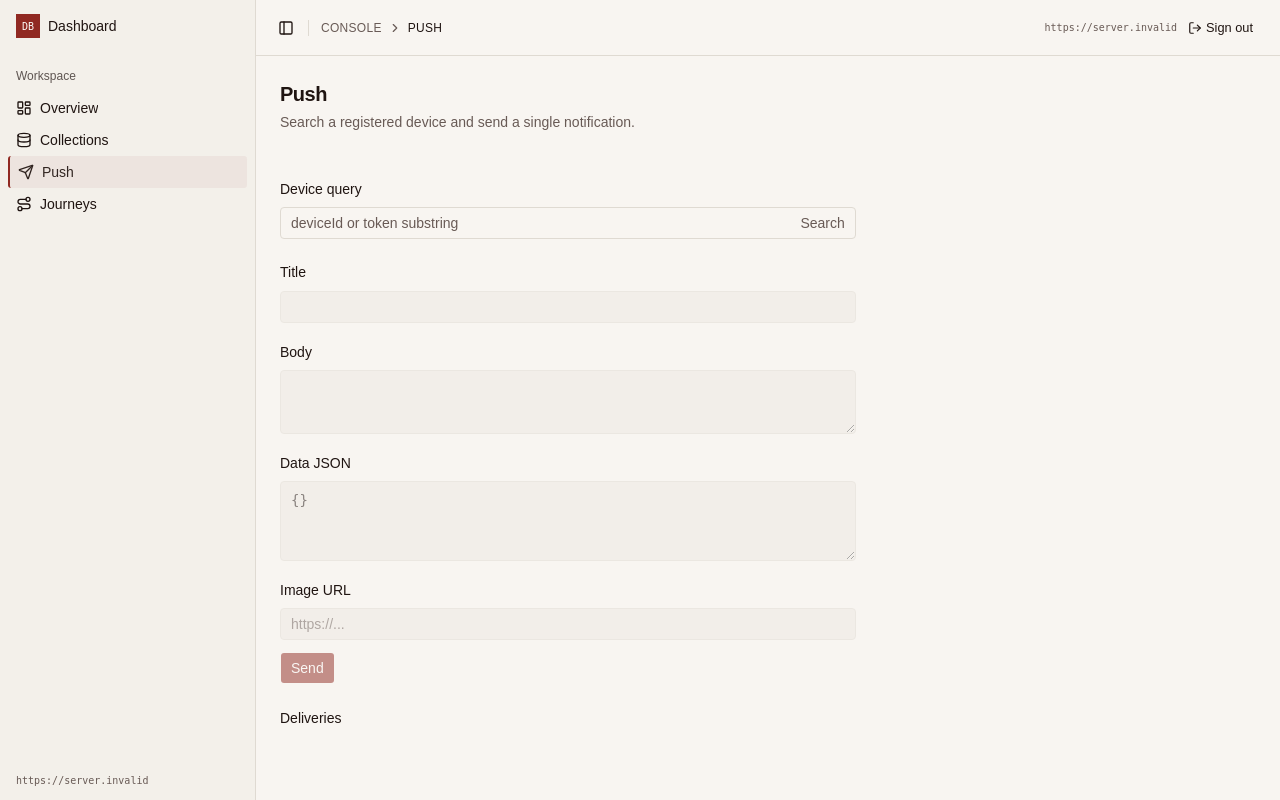
it: operator dashboard › toasts Push sent on a 200 send
The width and height of the screenshot is (1280, 800).
Type "dev_abc" into the field labelled "Device query".
click(537, 223); type("dev_abc")  # box [281,207,793,239]
Click the button "Search".
click(823, 223)  # box [793,211,852,235]
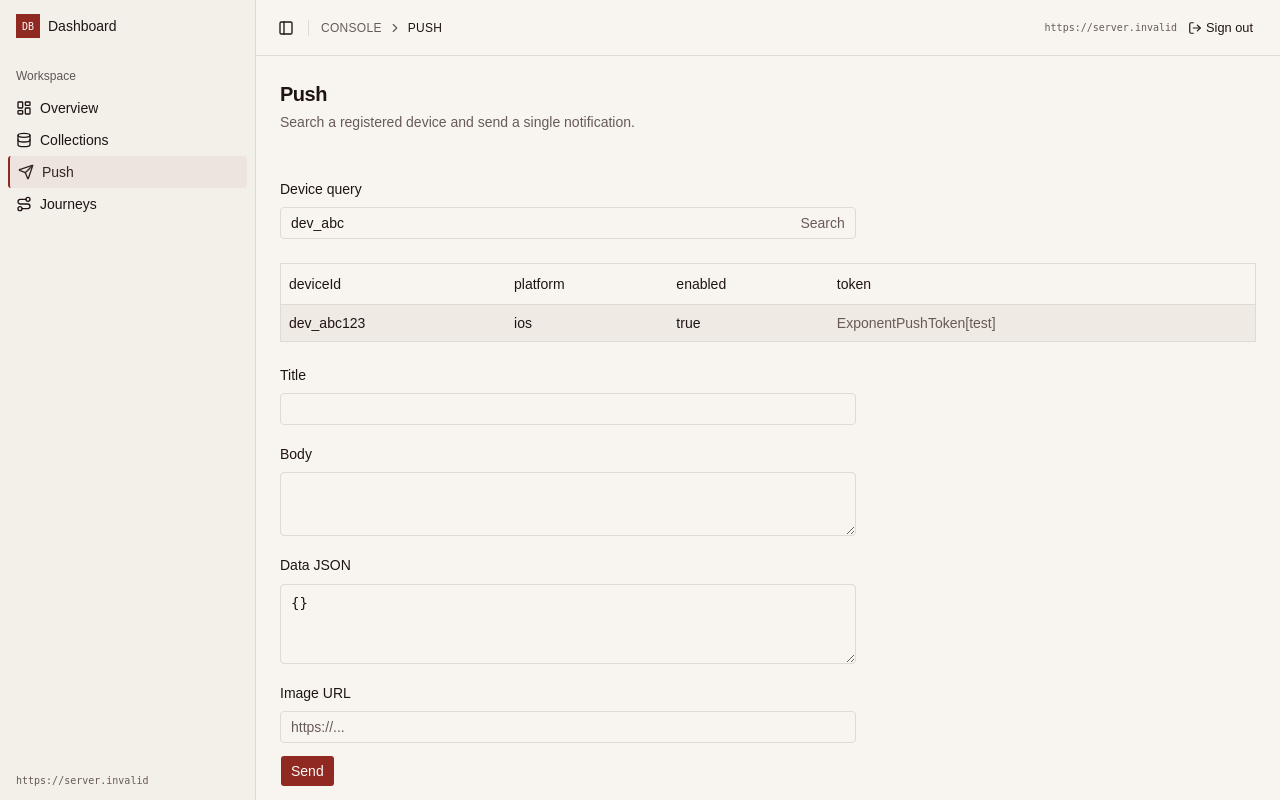
Click the text "dev_abc123".
click(327, 323)  # box [281,304,506,341]
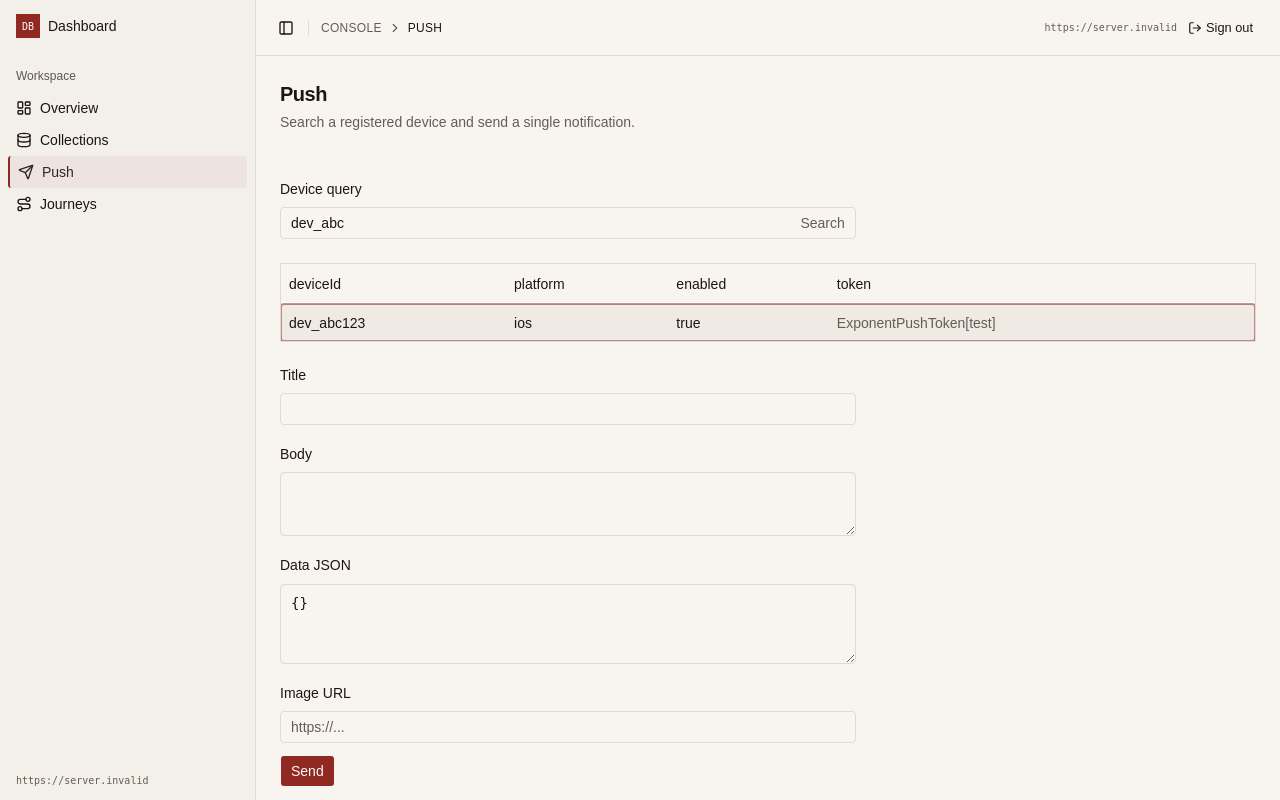
Type "Hello" into the field labelled "Title".
click(568, 409); type("Hello")  # box [280,393,856,425]
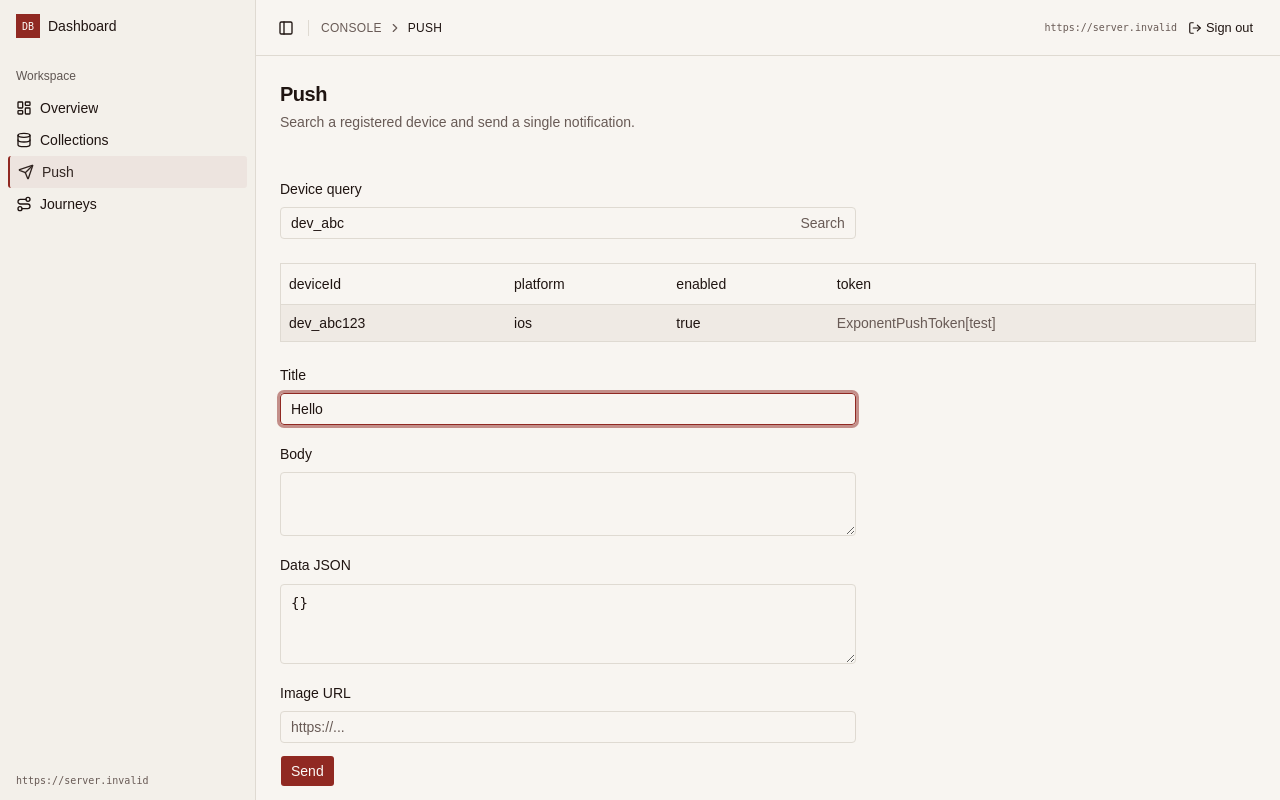
Type "World" into the text box labelled "Body".
click(568, 504); type("World")  # box [280,472,856,536]
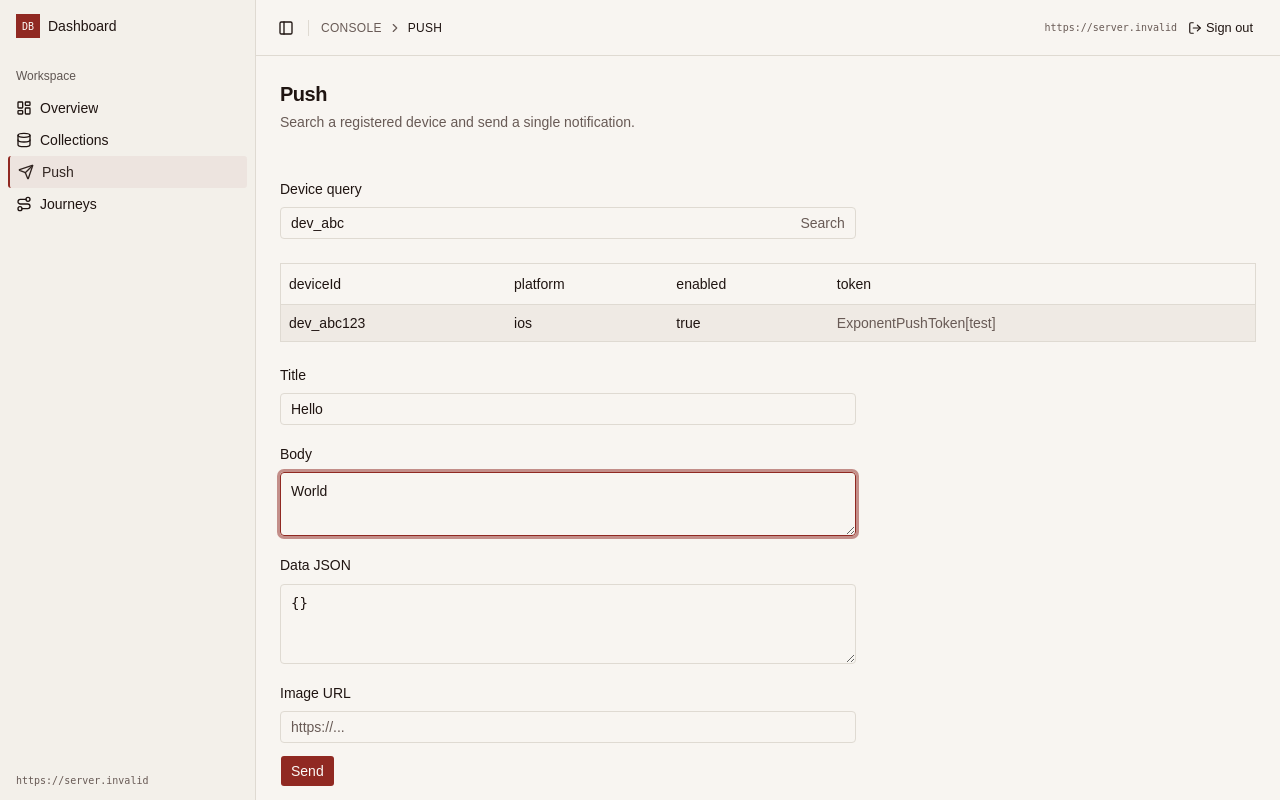
Type "https://cdn.example.com/single-push.jpg" into the field labelled "Image URL".
click(568, 727); type("https://cdn.example.com/single-push.jpg")  # box [280,711,856,743]
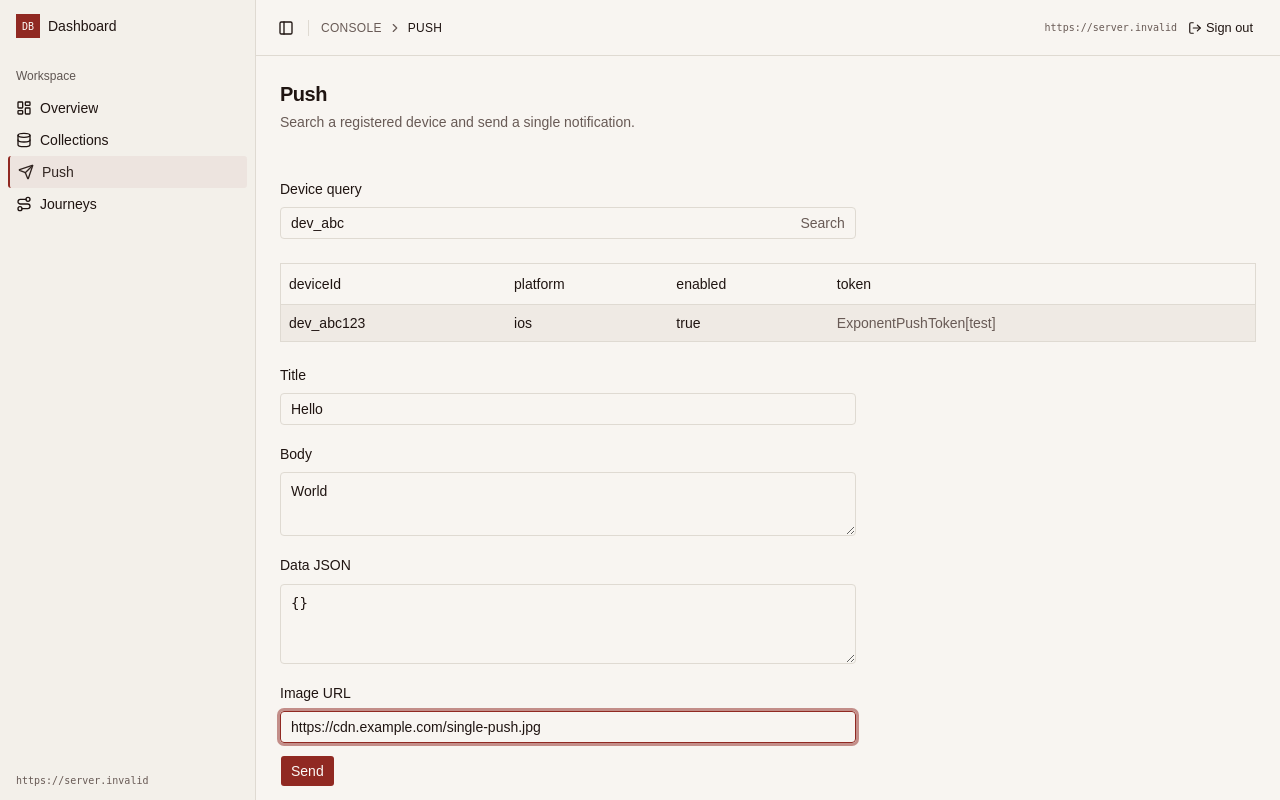
Click the button "Send".
click(307, 771)  # box [280,755,335,787]
(page scrolled)
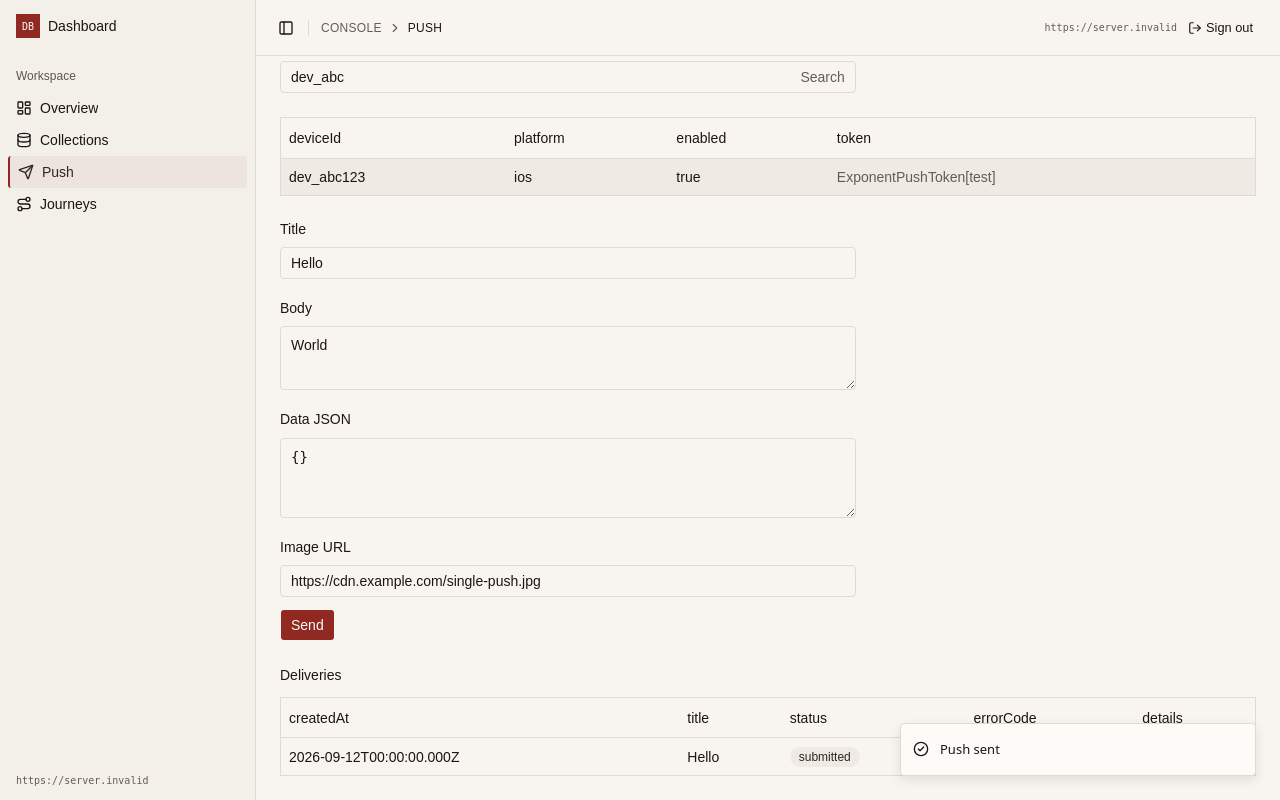
Now the text "submitted" is shown, box [790,747,860,767]
Now the text "Push sent" is shown, box [940,740,1000,759]
